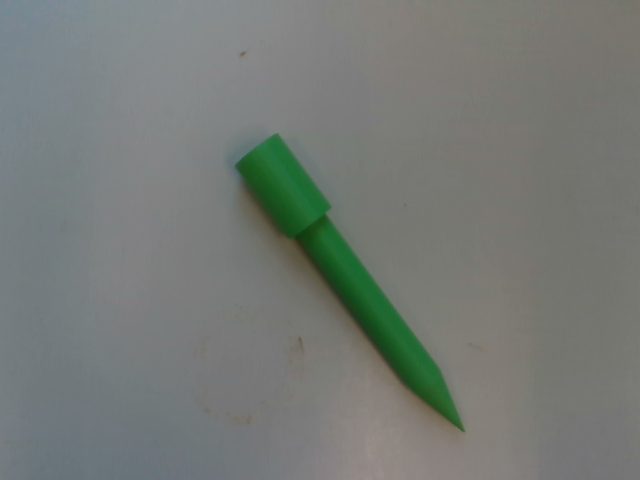Probe: (231, 127, 473, 440)
